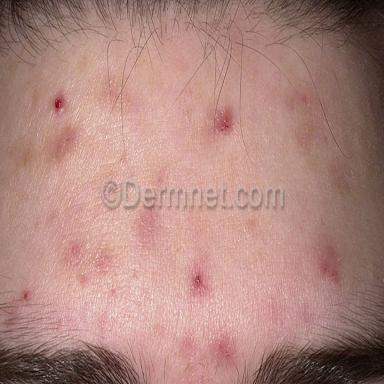acne: (215, 108, 233, 132), (320, 261, 339, 282), (192, 268, 206, 295), (55, 95, 65, 111), (23, 291, 29, 301)
